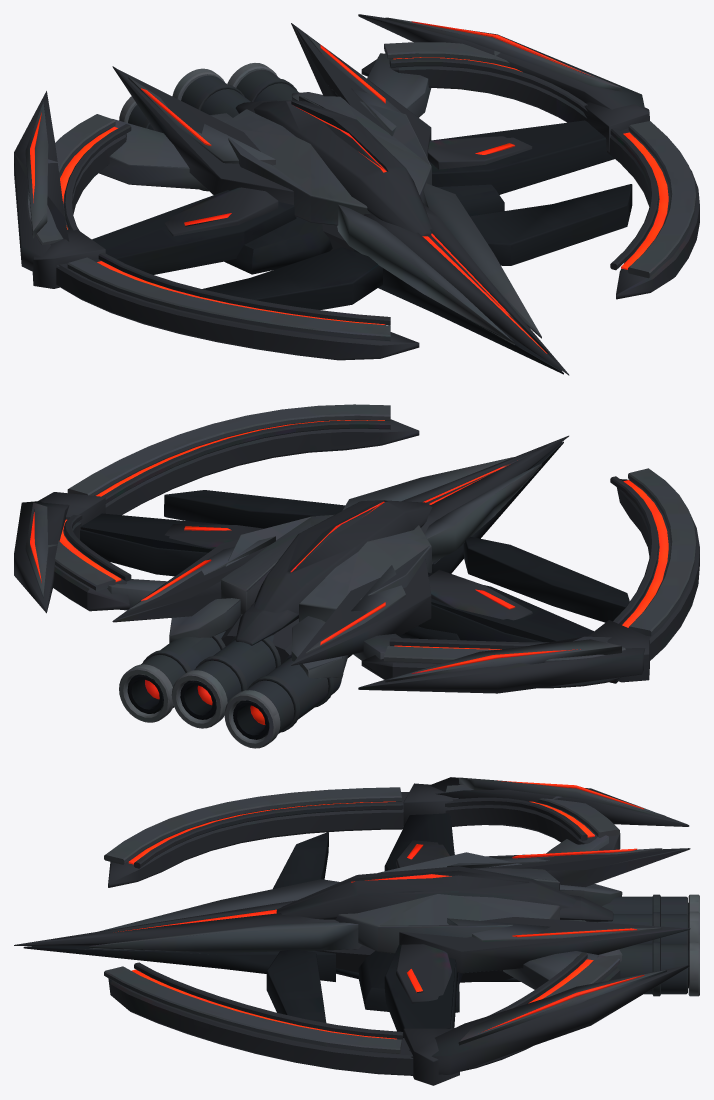
3 views of the same model, one above another, from view 1: azimuth 30°, elevation 25°; view 2: azimuth 150°, elevation 25°; view 3: azimuth 270°, elevation 25° (orthographic). The views are drawn at different scales.
Parts seen in each view (by area): view 1: S1_EnemyFighter_C_LOD1; view 2: S1_EnemyFighter_C_LOD1; view 3: S1_EnemyFighter_C_LOD1.
Boxes of the visible parts, box(x1,y1,x2,y2) form: S1_EnemyFighter_C_LOD1: box(14, 14, 699, 375); S1_EnemyFighter_C_LOD1: box(14, 404, 699, 748); S1_EnemyFighter_C_LOD1: box(14, 777, 699, 1085).
Bounding box in the file's own units: 11.06 × 1.89 × 11.49.
Materials: 1 (1 with a texture image).
